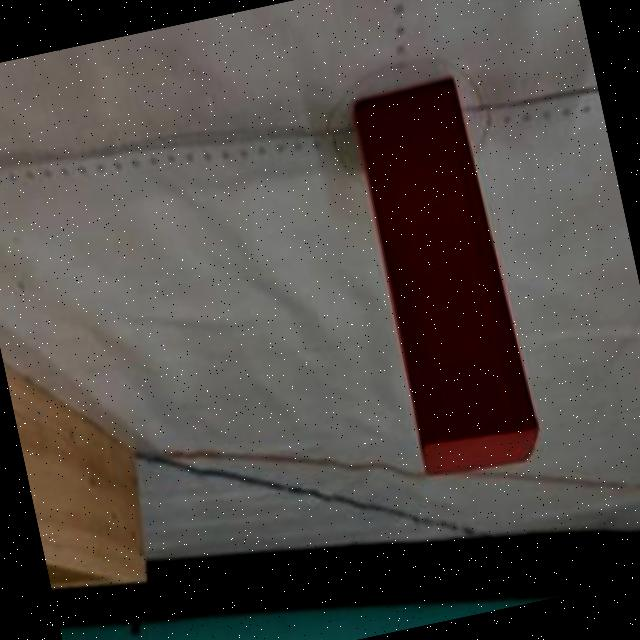redbox: (345, 71, 544, 484)
